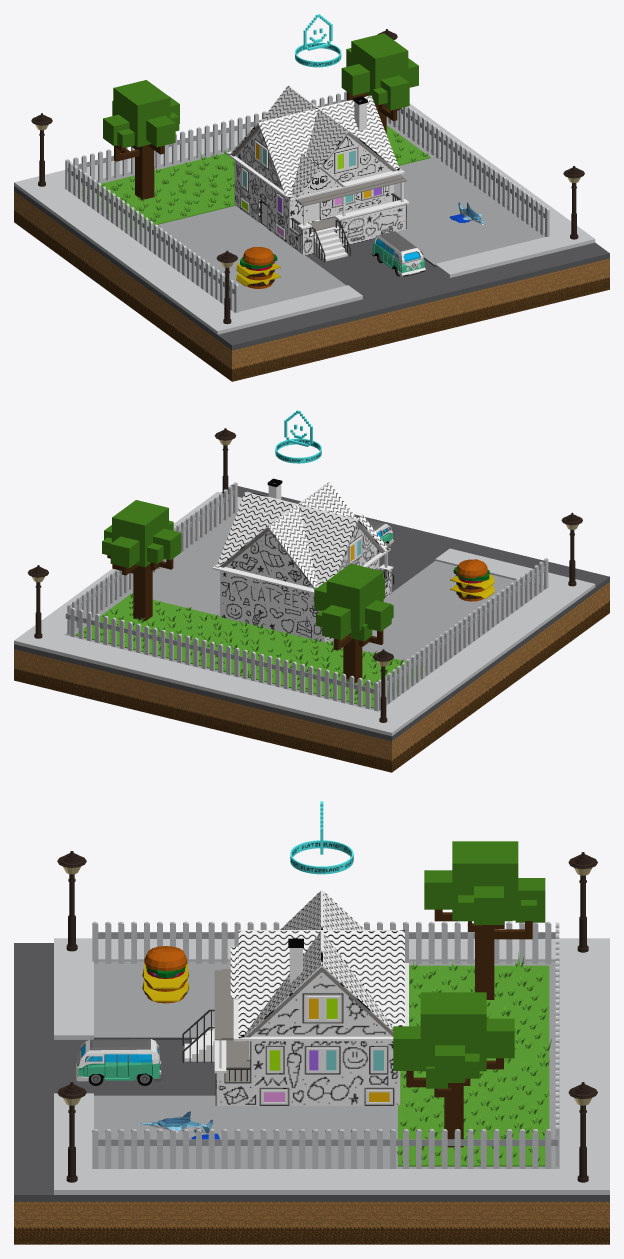
3 views of the same model, one above another, from view 1: azimuth 30°, elevation 25°; view 2: azimuth 150°, elevation 25°; view 3: azimuth 270°, elevation 25° (orthographic). The views are drawn at different scales.
Parts seen in each view (by area): view 1: Cube.004, Cube.879, VEHICLES_VAN, OBJRANDOM_HAMBURGER, TYPE_PREMIUM; view 2: Cube.004, Cube.879, OBJRANDOM_HAMBURGER, TYPE_PREMIUM; view 3: Cube.004, Cube.879, VEHICLES_VAN, OBJRANDOM_HAMBURGER, TYPE_PREMIUM, ANIMAL_PEZ_ESPADA.
Boxes of the visible parts, <box> form: Cube.004: <box>14,29,609,381</box>; Cube.879: <box>226,86,409,262</box>; VEHICLES_VAN: <box>371,231,425,276</box>; OBJRANDOM_HAMBURGER: <box>236,247,280,288</box>; TYPE_PREMIUM: <box>295,14,341,67</box>; Cube.004: <box>14,428,609,772</box>; Cube.879: <box>212,478,394,642</box>; OBJRANDOM_HAMBURGER: <box>450,559,494,601</box>; TYPE_PREMIUM: <box>275,410,321,463</box>; Cube.004: <box>14,841,609,1244</box>; Cube.879: <box>182,890,408,1105</box>; VEHICLES_VAN: <box>76,1039,161,1085</box>; OBJRANDOM_HAMBURGER: <box>142,946,189,1003</box>; TYPE_PREMIUM: <box>290,801,353,874</box>; ANIMAL_PEZ_ESPADA: <box>137,1111,219,1139</box>.
Bounding box in the file's own units: 4000 × 2466 × 4000.
Materials: 45 (11 with a texture image).
